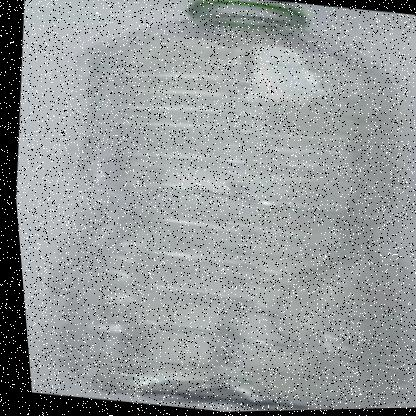open bottle: (57, 1, 416, 167)
